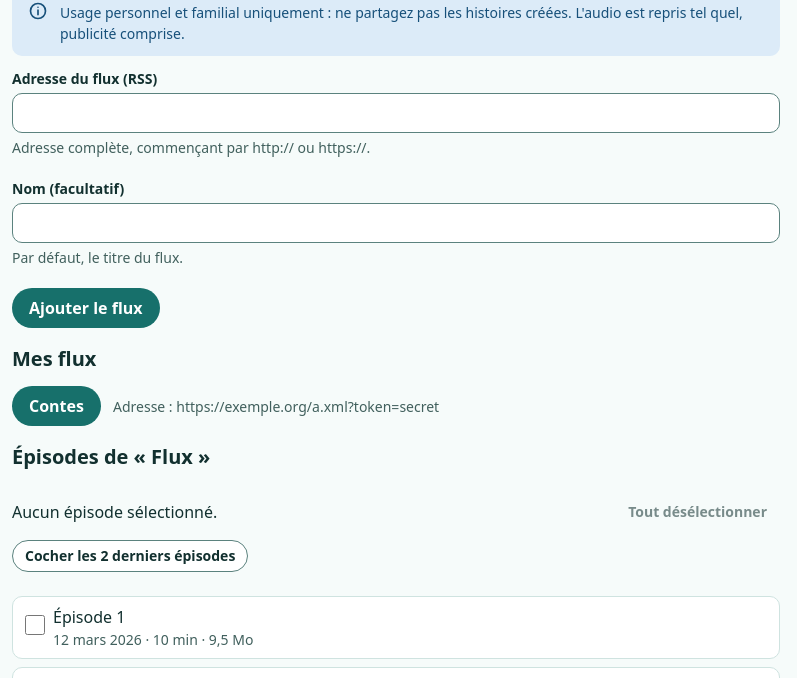
Scenario: la sélection est annoncée et se vide d'un clic
(page scrolled)
Step 1. Click the checkbox labelled "Épisode 1" → (35, 625), box [25, 615, 45, 635]
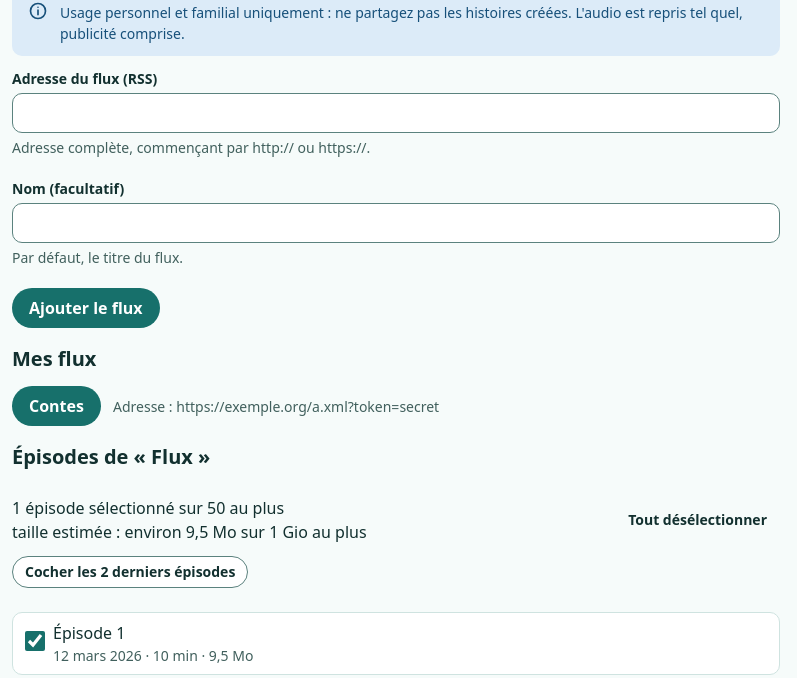
Now the message "sélection" shows "1 épisode sélectionné sur 50 au plus", box [12, 497, 284, 519]
Step 2. Click the button "Tout désélectionner" → (698, 520), box [615, 504, 780, 536]
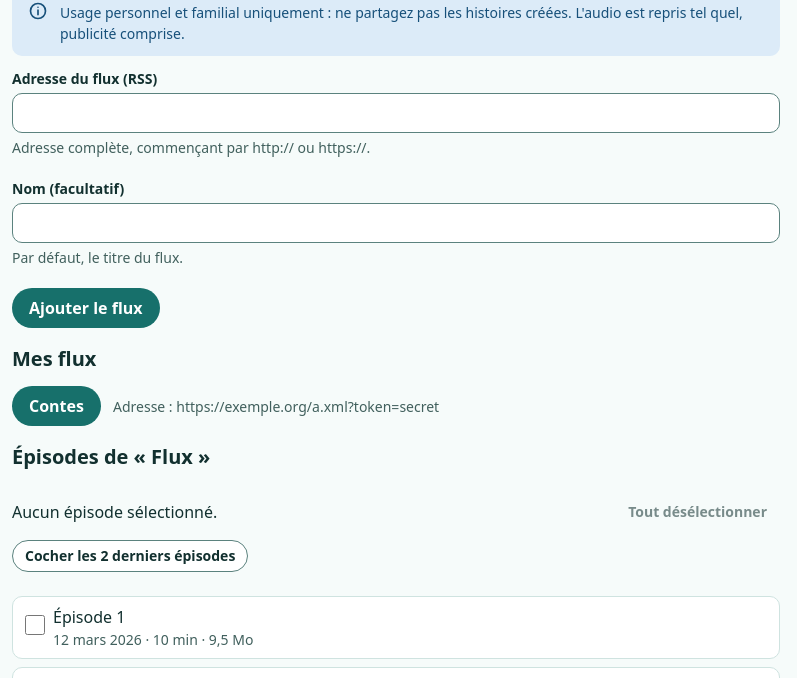
Now the message "sélection" reads "Aucun épisode sélectionné.", box [12, 501, 217, 523]
